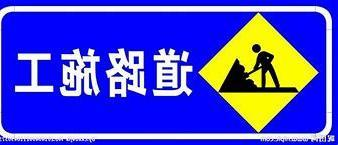sign: (1, 1, 332, 140)
